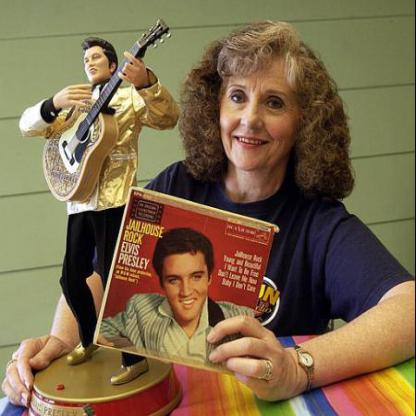face: (218, 31, 306, 175), (165, 237, 208, 321), (82, 43, 112, 83)
